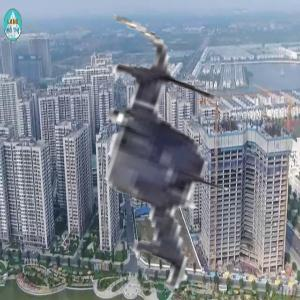drone: (6, 16, 286, 296)
